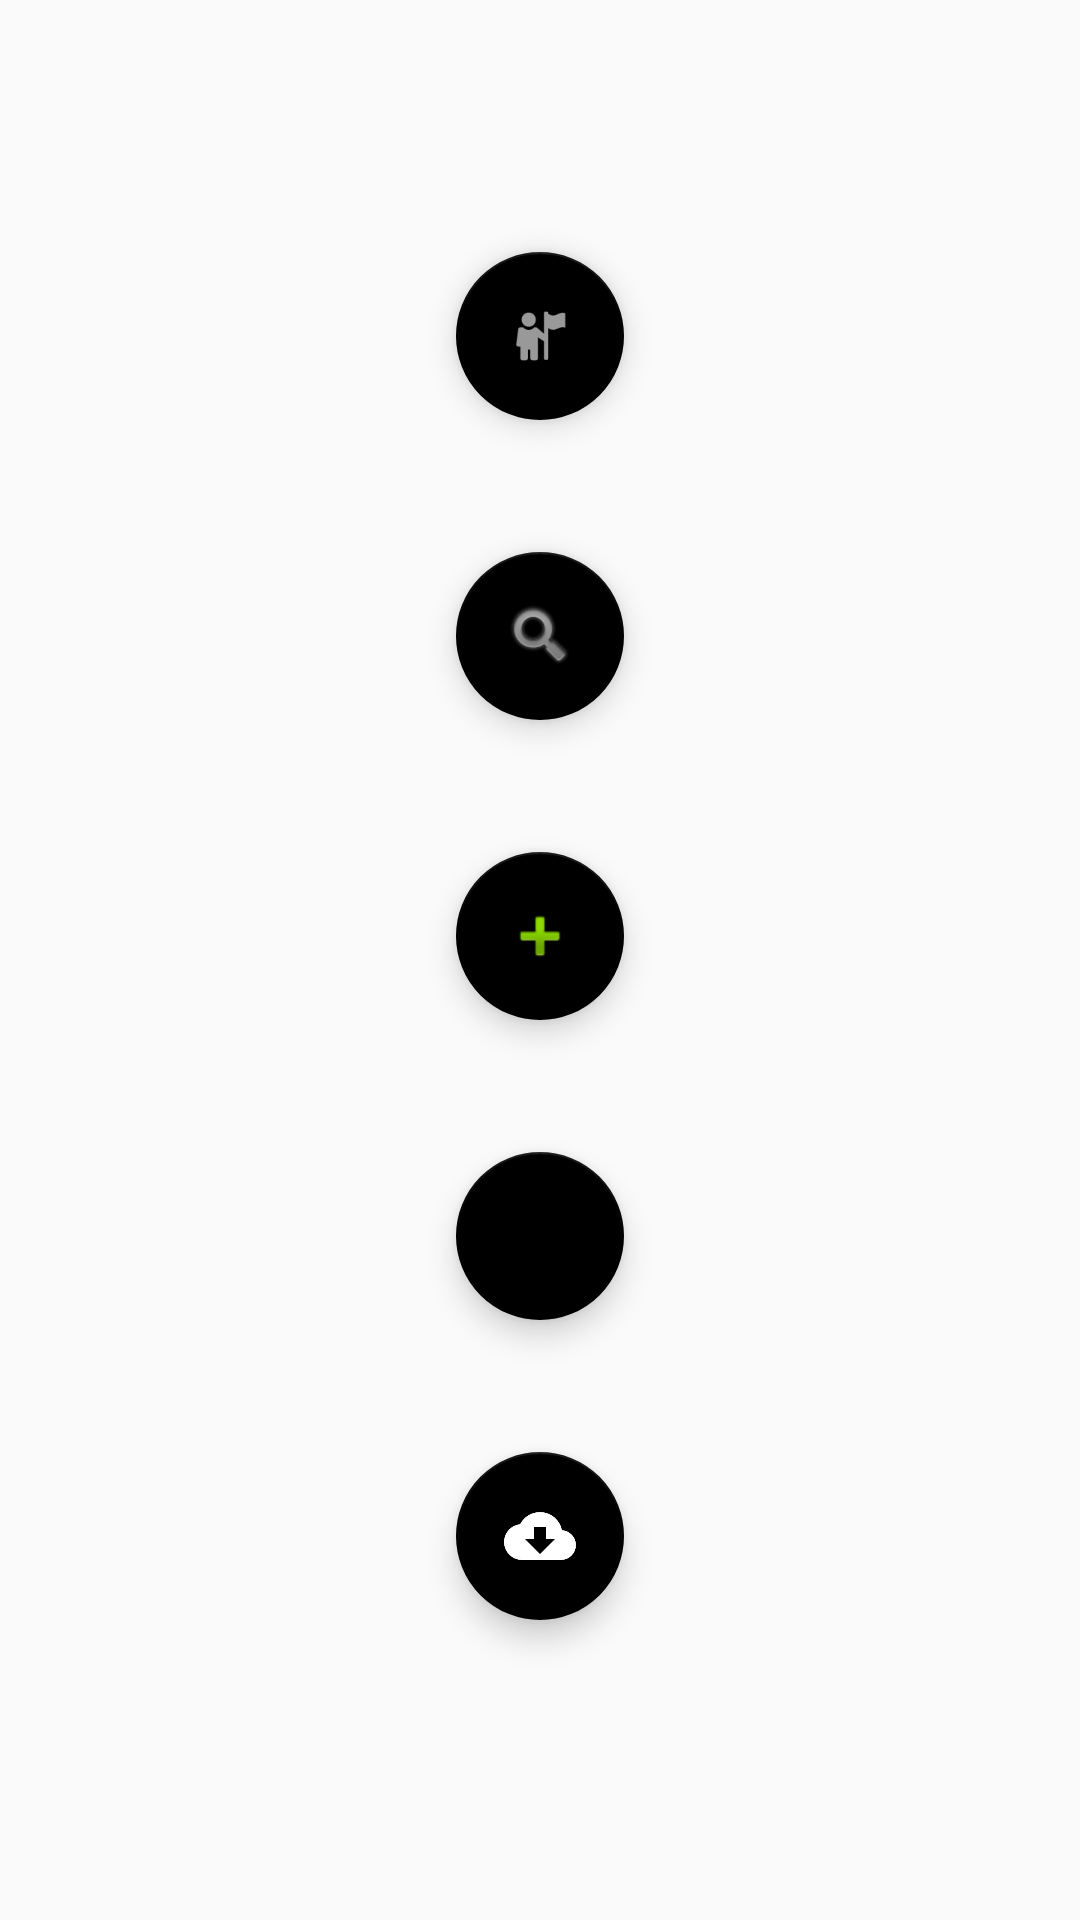

Named icons in this screenshot (1080 × 1920) and their centers, [x,y]:
add: [540,936]
cloud download: [540,1536]
myplaces: [540,336]
search category: [540,636]
